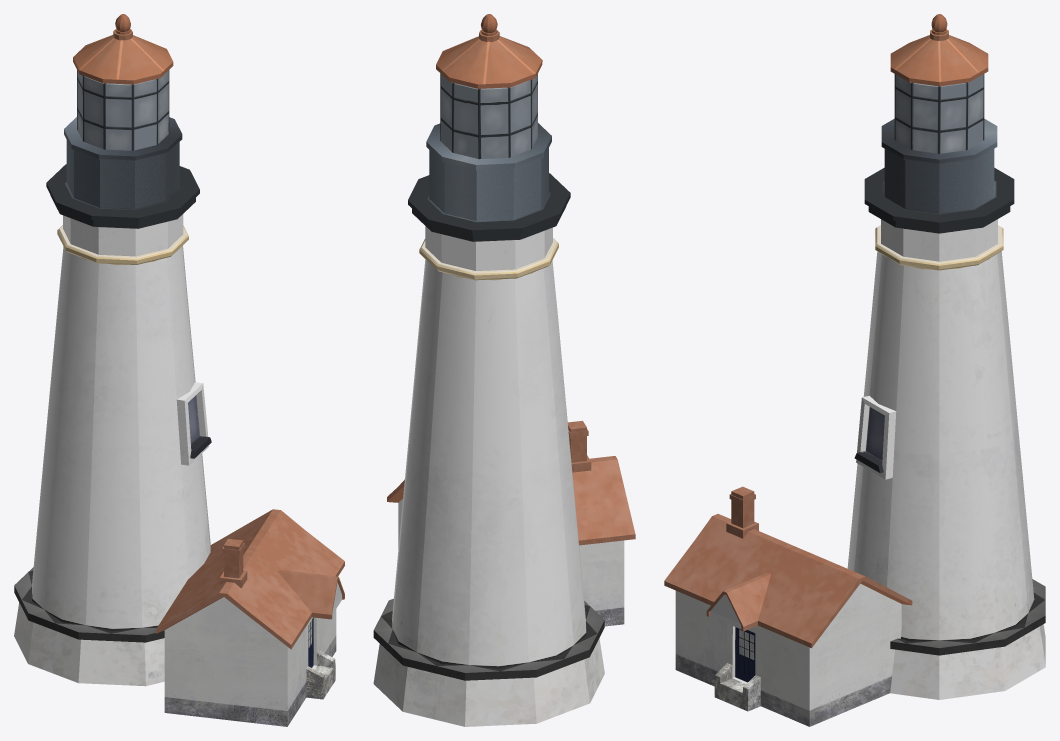
File: Lighthouse.fbx
The picture shows the model from 3 angles, left to right: view 1: azimuth 30°, elevation 25°; view 2: azimuth 150°, elevation 25°; view 3: azimuth 270°, elevation 25°; orthographic projection. The views are drawn at different scales.
Parts seen in each view (by area): view 1: Lighthouse, pCube1; view 2: Lighthouse, pCube1; view 3: Lighthouse, pCube1.
Boxes of the visible parts, x1,y1,x2,y2 form: Lighthouse: [14, 14, 211, 686]; pCube1: [156, 509, 344, 726]; Lighthouse: [373, 14, 604, 726]; pCube1: [387, 420, 635, 626]; Lighthouse: [847, 14, 1045, 699]; pCube1: [664, 486, 912, 726].
Size of the model in its own units: 10.02 by 23.56 by 12.78.
2 materials, 2 textured.
